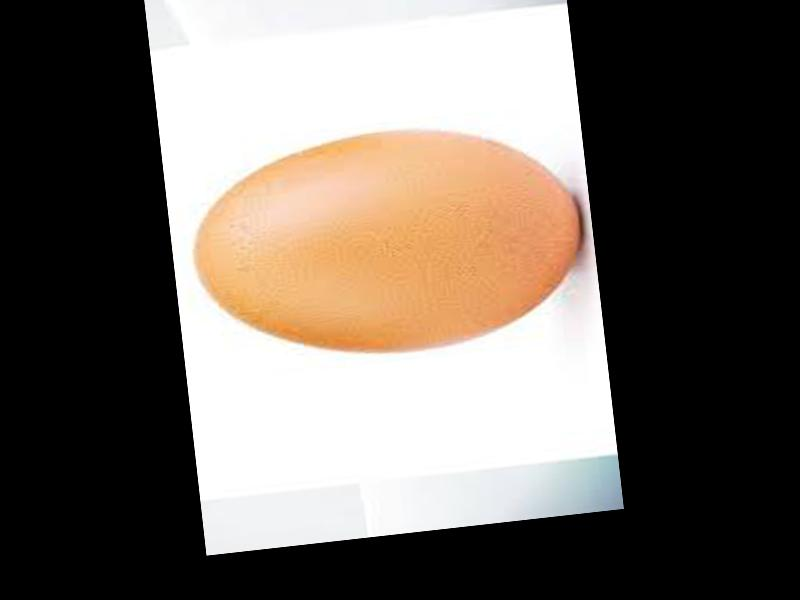Eggs: (184, 111, 591, 373)
